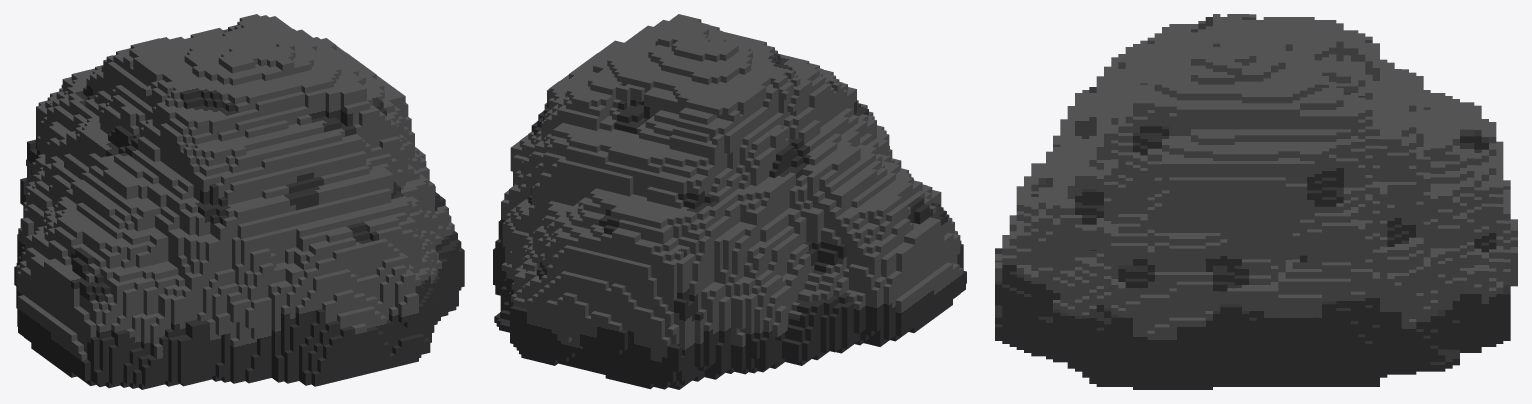
Rendered from rock_2.glb.
3 views of the same model, side by side, from view 1: azimuth 30°, elevation 25°; view 2: azimuth 150°, elevation 25°; view 3: azimuth 270°, elevation 25° (orthographic). The views are drawn at different scales.
Parts seen in each view (by area): view 1: GameObject; view 2: GameObject; view 3: GameObject.
Boxes of the visible parts, x1,y1,x2,y2 form: GameObject: (14, 14, 464, 389); GameObject: (493, 14, 966, 389); GameObject: (995, 14, 1517, 389).
Size of the model in its own units: 6.5 by 4 by 7.2.
Materials: 1 (1 with a texture image).
